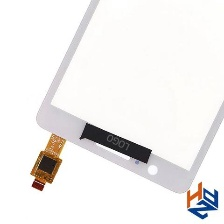phone: (24, 0, 224, 196)
